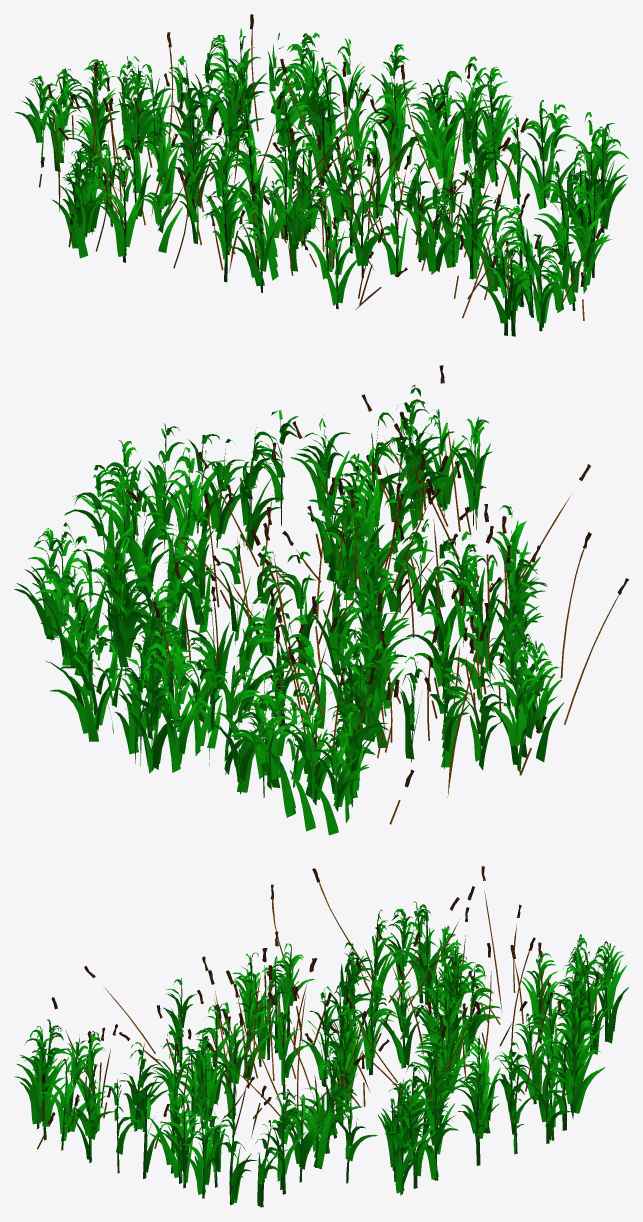
The model's file is Plantamon.fbx.
The picture shows the model from 3 angles, top to bottom: view 1: azimuth 30°, elevation 25°; view 2: azimuth 150°, elevation 25°; view 3: azimuth 270°, elevation 25°; orthographic projection. The views are drawn at different scales.
Parts seen in each view (by area): view 1: cornSilkGreen1Leaf, cornSilkGreen1Main, cattail2Main, cattail2Flower, cattail1Main, cattail3Main, cattail1Flower, cattail3Flower, cattail4Main; view 2: cornSilkGreen1Leaf, cattail2Main, cornSilkGreen1Main, cattail2Flower, cattail1Main, cattail3Main, cattail1Flower, cattail3Flower; view 3: cornSilkGreen1Leaf, cornSilkGreen1Main, cattail2Main, cattail2Flower, cattail1Main, cattail3Main, cattail1Flower, cattail3Flower, cattail4Main.
Part boxes in pixels (bbox=[...]): cornSilkGreen1Leaf: bbox=[14, 28, 628, 327]; cornSilkGreen1Main: bbox=[78, 35, 604, 336]; cattail2Main: bbox=[39, 29, 584, 320]; cattail2Flower: bbox=[40, 14, 604, 286]; cattail1Main: bbox=[280, 131, 405, 298]; cattail3Main: bbox=[111, 47, 480, 219]; cattail1Flower: bbox=[263, 91, 409, 258]; cattail3Flower: bbox=[103, 32, 505, 182]; cattail4Main: bbox=[89, 131, 257, 270]; cornSilkGreen1Leaf: bbox=[14, 385, 563, 835]; cattail2Main: bbox=[158, 421, 623, 824]; cornSilkGreen1Main: bbox=[50, 410, 537, 798]; cattail2Flower: bbox=[126, 365, 628, 787]; cattail1Main: bbox=[318, 494, 571, 644]; cattail3Main: bbox=[237, 495, 430, 746]; cattail1Flower: bbox=[337, 455, 590, 599]; cattail3Flower: bbox=[226, 442, 439, 688]; cornSilkGreen1Leaf: bbox=[14, 901, 628, 1207]; cornSilkGreen1Main: bbox=[37, 908, 610, 1207]; cattail2Main: bbox=[37, 882, 596, 1154]; cattail2Flower: bbox=[41, 866, 598, 1130]; cattail1Main: bbox=[104, 975, 307, 1109]; cattail3Main: bbox=[235, 935, 529, 1117]; cattail1Flower: bbox=[84, 931, 317, 1033]; cattail3Flower: bbox=[206, 907, 535, 1068]; cattail4Main: bbox=[264, 919, 459, 1045].
Size of the model in its own units: 14.16 by 4.15 by 15.91.
